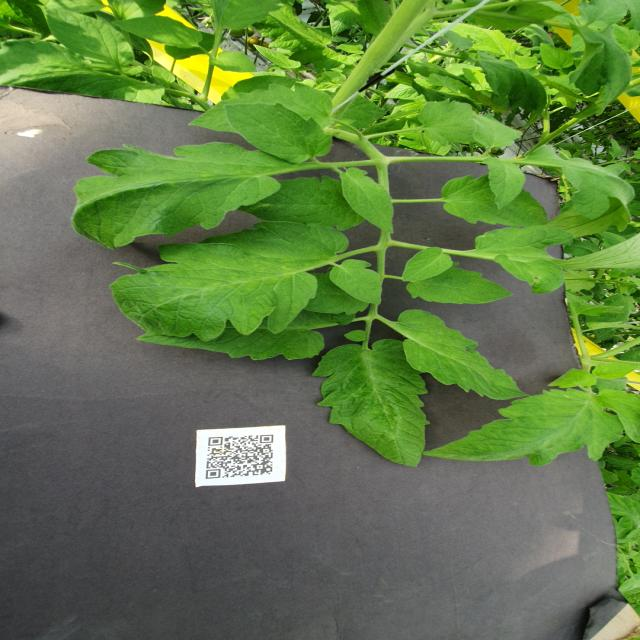Healthy Leaf: (109, 221, 350, 338), (70, 143, 287, 251), (421, 387, 640, 468), (314, 340, 429, 468), (399, 309, 532, 402), (528, 145, 637, 239), (135, 312, 325, 361), (239, 176, 367, 231), (226, 103, 334, 162), (38, 5, 136, 67), (441, 175, 549, 228), (406, 263, 517, 307), (339, 168, 399, 236), (114, 16, 204, 50), (328, 258, 385, 307), (485, 158, 527, 211), (471, 114, 525, 150), (401, 248, 455, 283), (254, 44, 302, 71), (209, 50, 258, 74), (538, 43, 575, 71), (594, 361, 640, 380), (151, 65, 178, 87)
